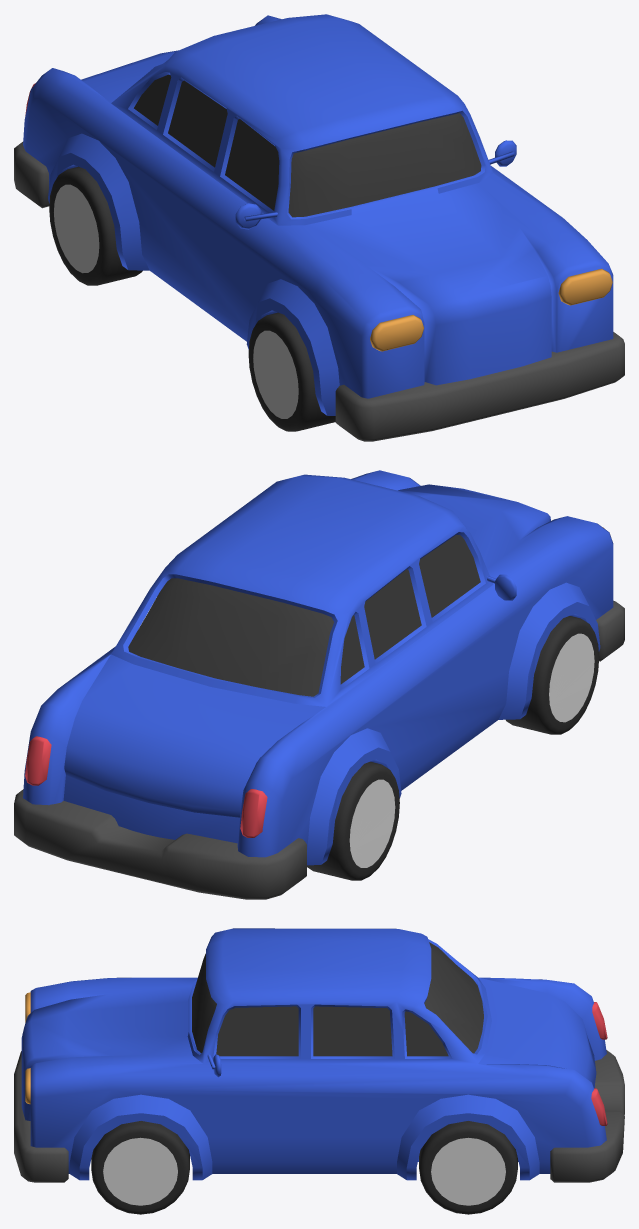
Rendered from araba.fbx.
The picture shows the model from 3 angles, top to bottom: view 1: azimuth 30°, elevation 25°; view 2: azimuth 150°, elevation 25°; view 3: azimuth 270°, elevation 25°; orthographic projection. The views are drawn at different scales.
Visible parts, largest first — view 1: araba, tekerler; view 2: araba, tekerler; view 3: araba, tekerler.
Part boxes in pixels (box(x1,y1,x2,y2)): araba: box(14, 14, 624, 441); tekerler: box(49, 166, 335, 431); araba: box(14, 470, 624, 899); tekerler: box(307, 616, 599, 880); araba: box(14, 928, 624, 1182); tekerler: box(91, 1121, 517, 1214).
Bounding box in the file's own units: 255 × 202 × 555.
